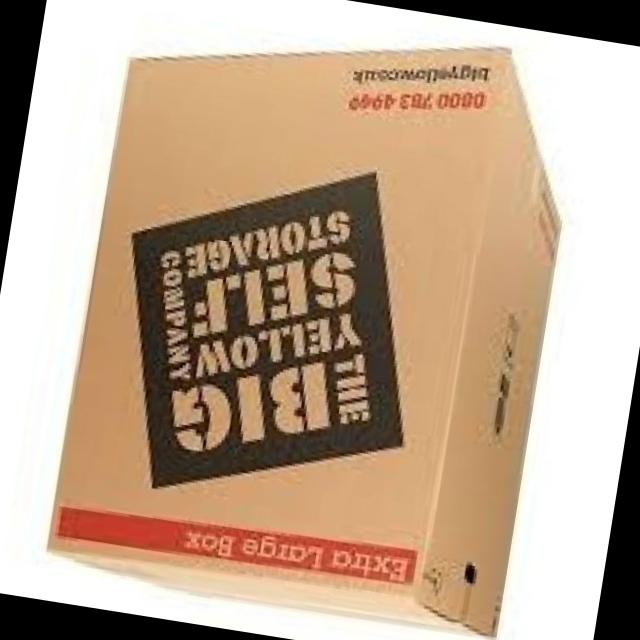cardboard paper: (51, 53, 560, 638)
